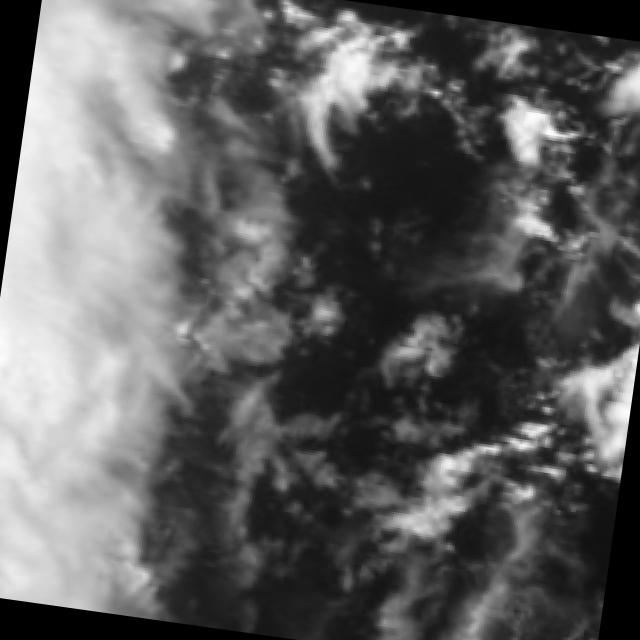CB: (0, 132, 87, 510)
